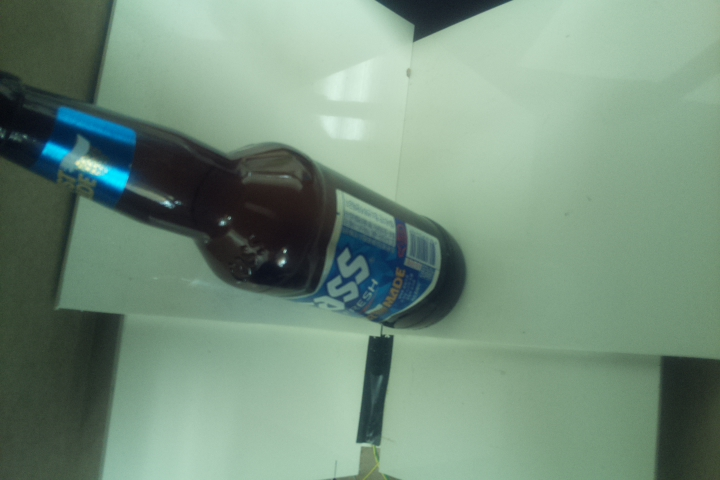makju: (1, 67, 468, 331)
